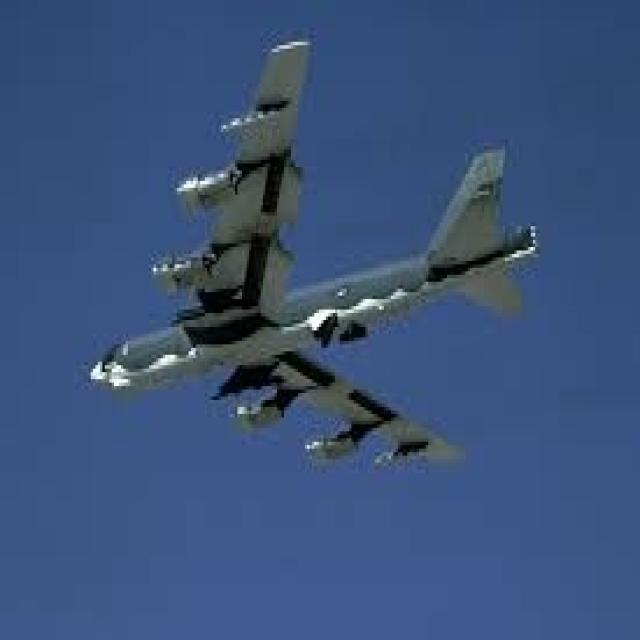B52: (56, 31, 576, 514)
